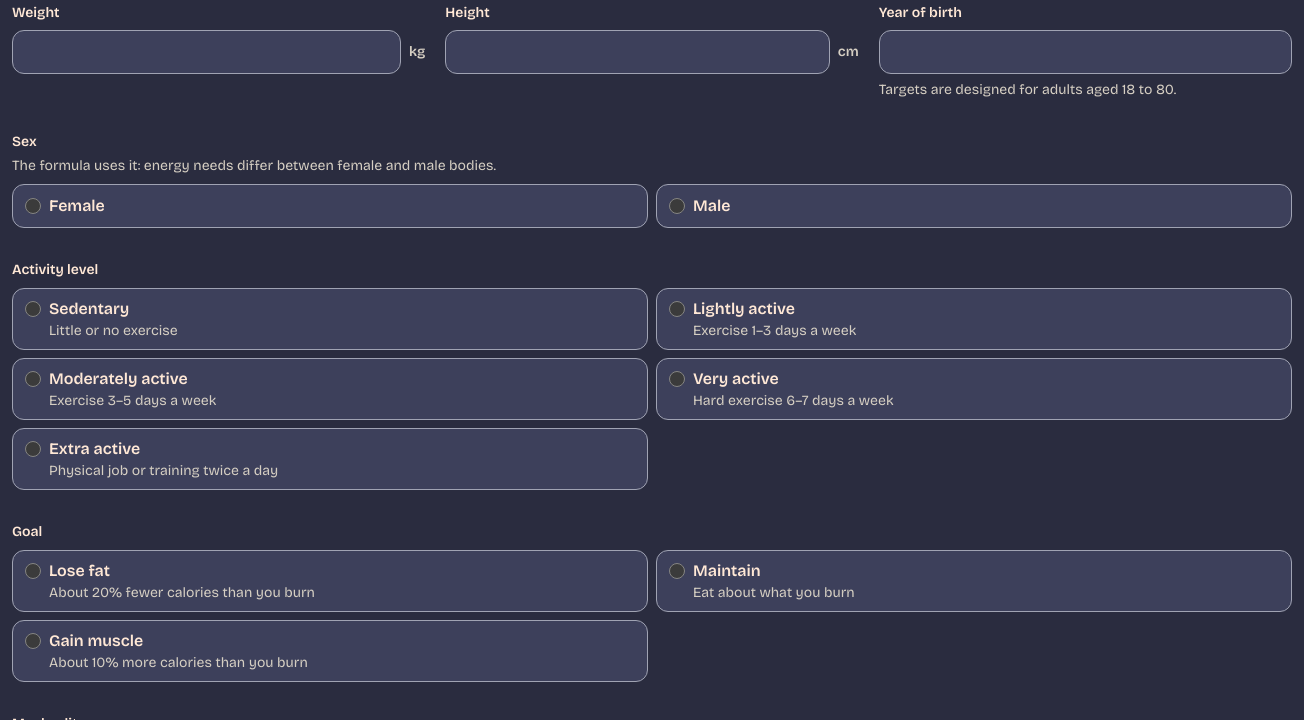
Test: ProfileForm › submits every field, and shows the server’s errors next to the fields
Type "500" into the field labelled "Weight".
click(206, 52); type("500")  # box [12, 30, 401, 74]
(page scrolled)
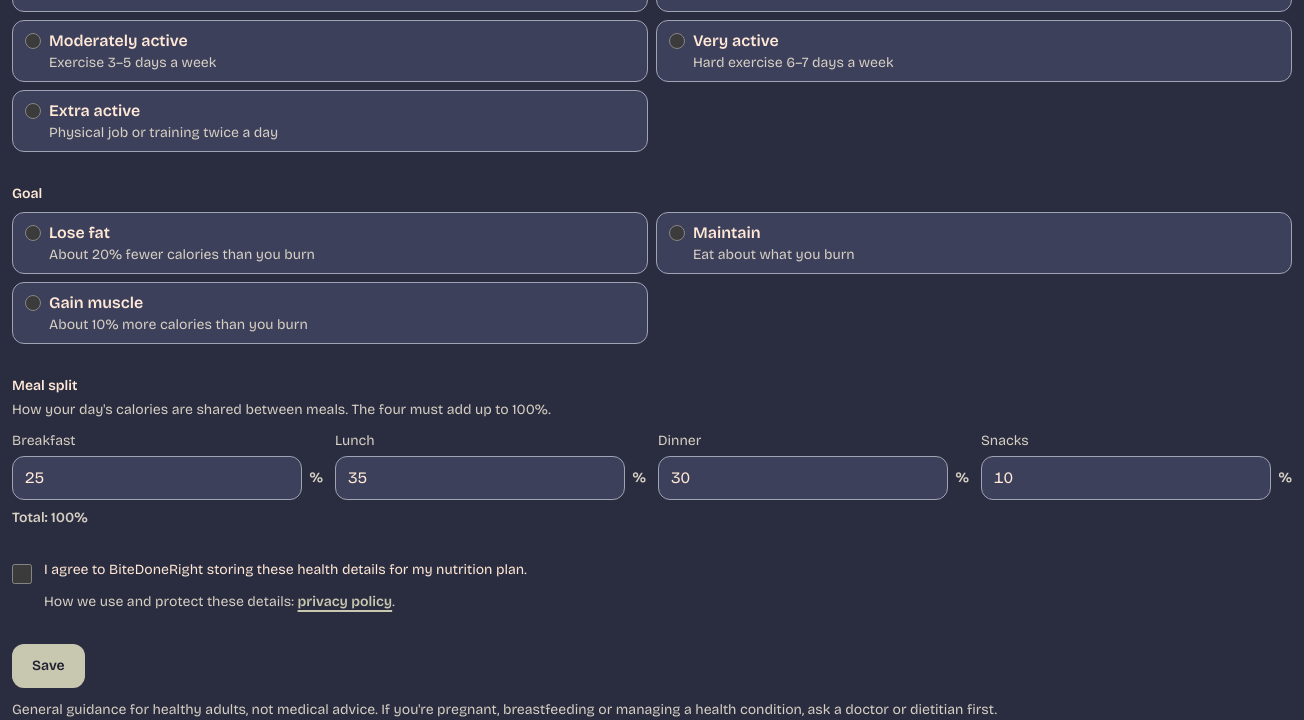
Click the button "Save".
click(48, 666)  # box [12, 644, 85, 688]
(page scrolled)
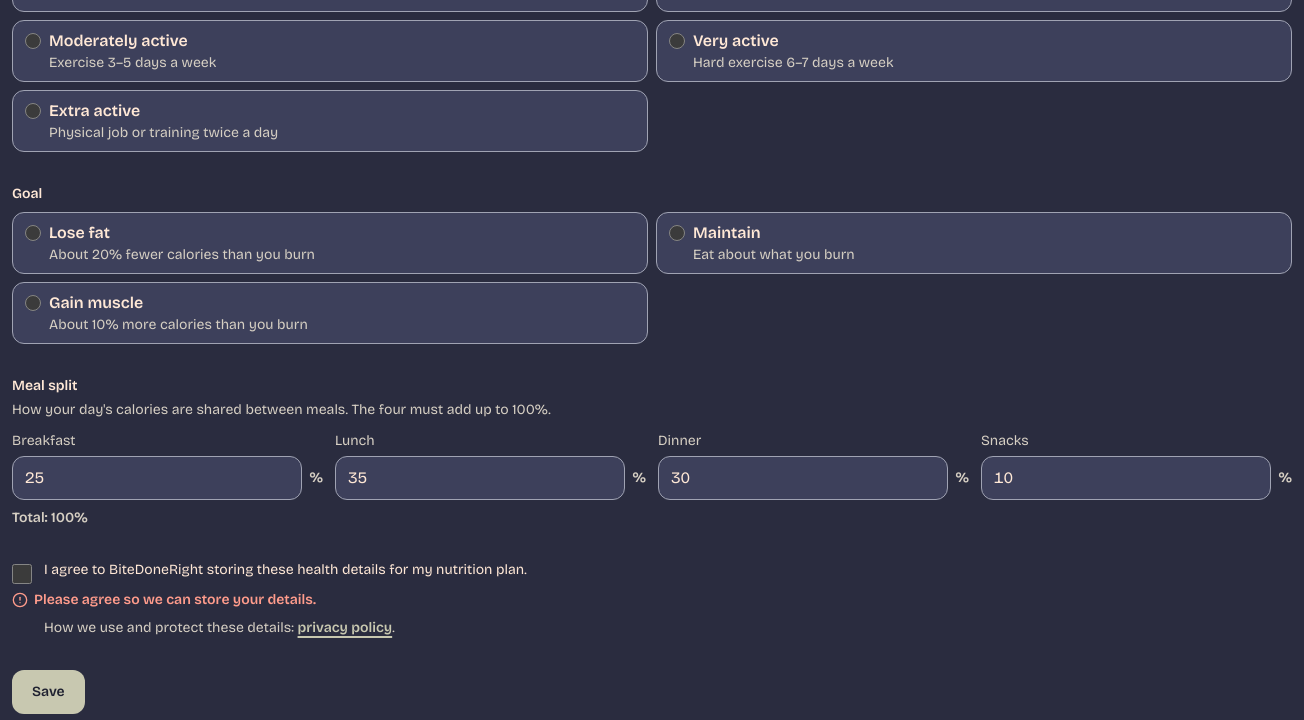
Expected: the text "Please agree so we can store your details." is shown, [12, 591, 316, 608]
